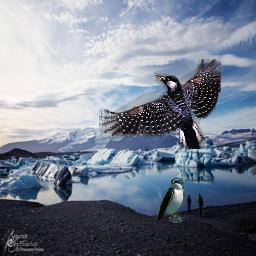Swallow: (156, 177, 185, 223)
Woodpecker: (99, 59, 221, 149)
